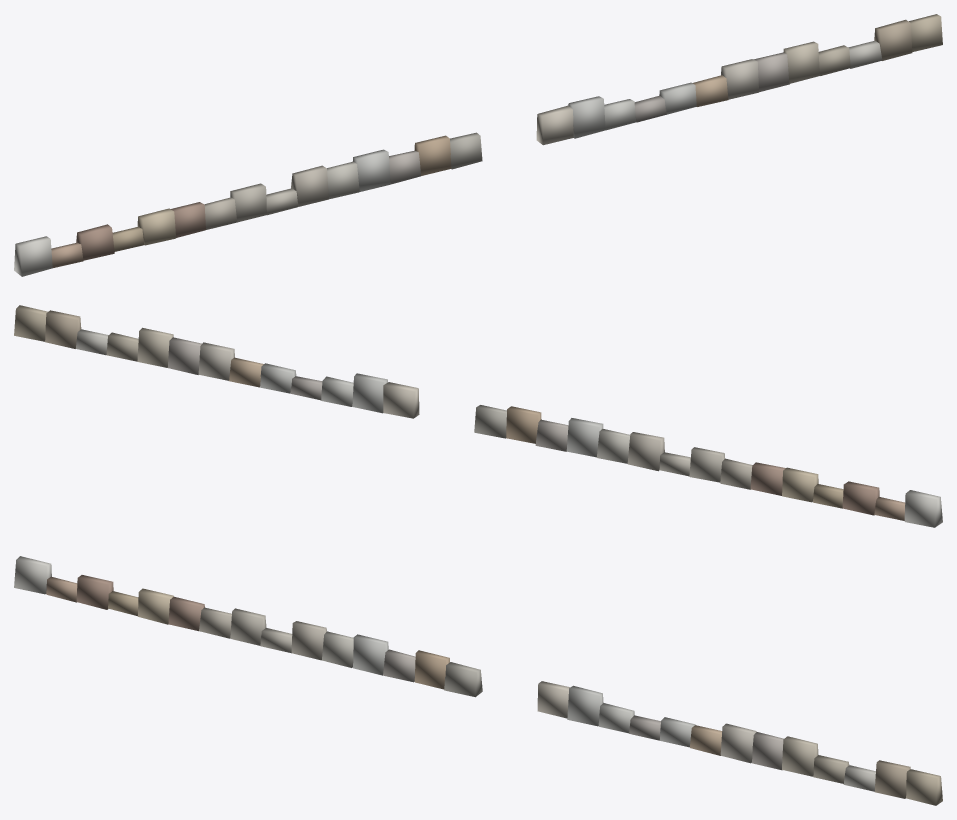
File: farm_19_18_far.glb
The picture shows the model from 3 angles, top to bottom: view 1: azimuth 30°, elevation 25°; view 2: azimuth 150°, elevation 25°; view 3: azimuth 330°, elevation 25°; orthographic projection. The views are drawn at different scales.
Visible parts, largest first — view 1: geometry_0; view 2: geometry_0; view 3: geometry_0.
Boxes of the visible parts, x1,y1,x2,y2 form: geometry_0: (14,14,942,276); geometry_0: (14,305,942,527); geometry_0: (14,556,942,805).
Size of the model in its own units: 47.91 by 2.06 by 2.52.
